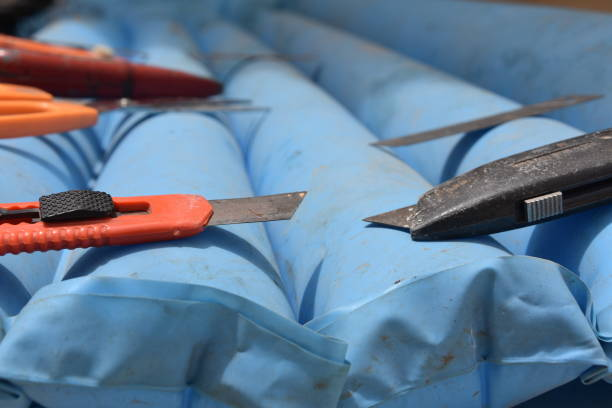knife: (360, 125, 612, 243), (0, 188, 309, 257), (367, 89, 607, 153)
